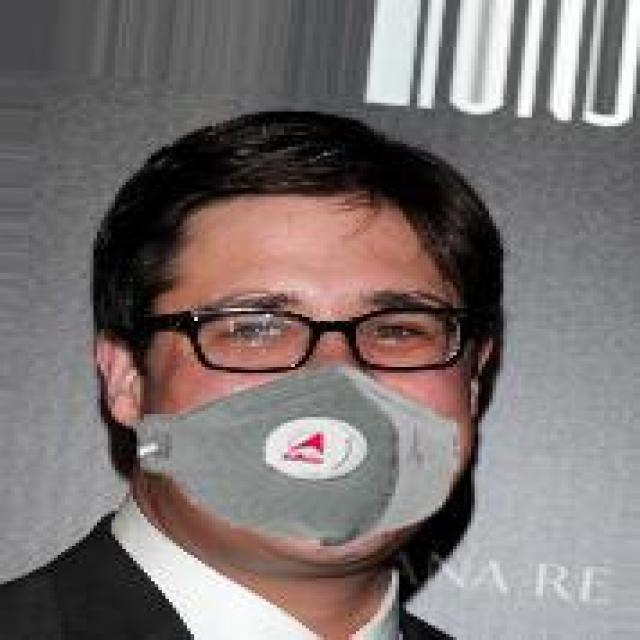mask: (111, 56, 540, 549)
